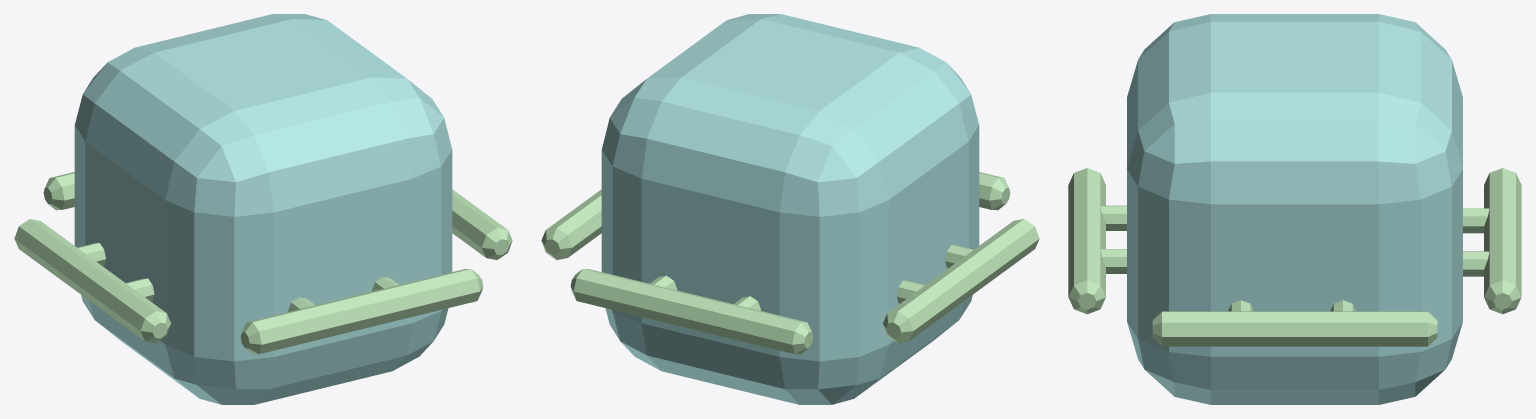
File: Smooth_Block_with_Handles.fbx
3 views of the same model, side by side, from view 1: azimuth 30°, elevation 25°; view 2: azimuth 150°, elevation 25°; view 3: azimuth 270°, elevation 25° (orthographic). The views are drawn at different scales.
Visible parts, largest first — view 1: ground1, handle1; view 2: ground1, handle1; view 3: ground1, handle1.
Boxes of the visible parts, x1,y1,x2,y2 form: ground1: (74, 14, 452, 404); handle1: (14, 172, 512, 354); ground1: (601, 14, 979, 404); handle1: (541, 172, 1039, 354); ground1: (1127, 14, 1462, 404); handle1: (1068, 168, 1521, 346).
Size of the model in its own units: 1.35 by 1 by 1.35.
